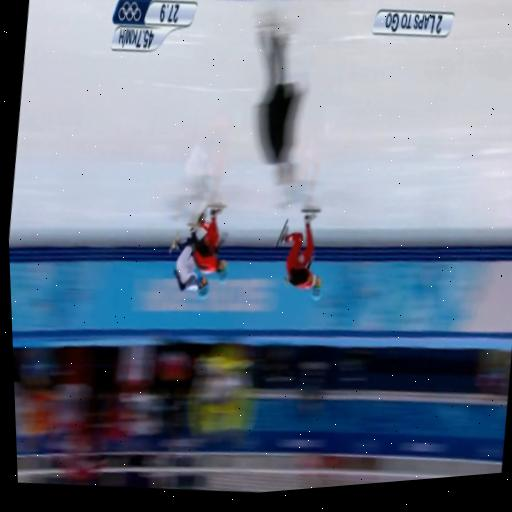Skater: (277, 208, 321, 299), (190, 204, 226, 282), (169, 233, 208, 297)
